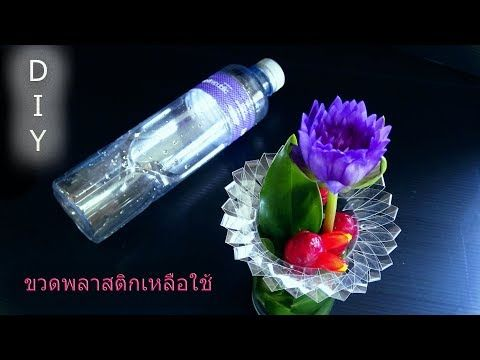plastic_bottle: (26, 18, 377, 278)
